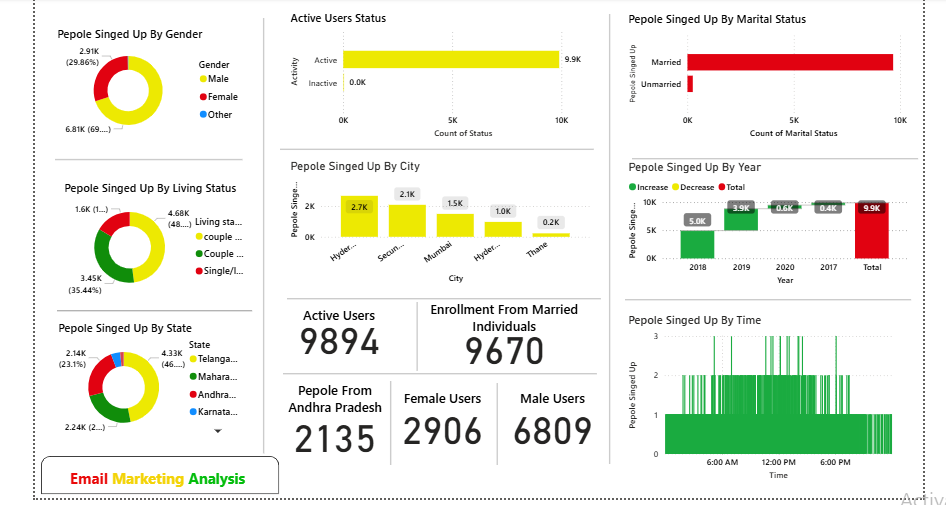

This screenshot's page, from the dashboard's own definition file:
{"tool":"powerbi","page":{"name":"Page 1","canvas":[1280,720],"ordinal":0},"visuals":[{"type":"donutChart","title":"Pepole Singed Up By Gender  ","fields":{"Category":["Email Markteing.Gender"],"Y":["CountNonNull(Email Markteing.Gender)"]},"box":[26.9,40.3,280.5,164.6],"z":0},{"type":"barChart","title":"Active Users Status","fields":{"Category":["Email Markteing.Status"],"Y":["CountNonNull(Email Markteing.Status)"]},"box":[362.8,16.8,441.8,189.8],"z":1000},{"type":"barChart","title":"Pepole Singed Up By Marital Status ","fields":{"Category":["Email Markteing.Marital Status"],"Y":["CountNonNull(Email Markteing.Marital Status)"]},"box":[850,18.5,411.5,188.1],"z":2000},{"type":"donutChart","title":"Pepole Singed Up By Living Status ","fields":{"Category":["Email Markteing.Living status"],"Y":["CountNonNull(Email Markteing.Living status)"]},"box":[37,262,278.8,173],"z":3000},{"type":"donutChart","title":"Pepole Singed Up By State ","fields":{"Category":["Email Markteing.State"],"Y":["CountNonNull(Email Markteing.State)"]},"box":[28.6,463.6,278.8,173],"z":4000},{"type":"columnChart","title":"Pepole Singed Up By City","fields":{"Category":["Email Markteing.City"],"Y":["CountNonNull(Email Markteing.City)"]},"box":[362.8,231.8,441.8,183.1],"z":5000},{"type":"waterfallChart","title":"Pepole Singed Up By Year ","fields":{"Category":["Email Markteing.Year"],"Y":["CountNonNull(Email Markteing.Year)"]},"box":[850,233.5,411.5,184.8],"z":6000},{"type":"columnChart","title":"Pepole Singed Up By Time ","fields":{"Category":["Email Markteing.Time"],"Y":["CountNonNull(Email Markteing.Time)"]},"box":[850,451.9,411.5,246.9],"z":7000},{"type":"shape","box":[307.4,28.6,45.4,626.6],"z":8000},{"type":"shape","box":[804.6,23.5,45.4,648.4],"z":9000},{"type":"card","title":"Active Users ","fields":{"Values":["CountNonNull(Email Markteing.Status)"]},"box":[362.8,443.5,149.5,82.3],"z":10000},{"type":"card","title":"Enrollment From Married Individuals ","fields":{"Values":["CountNonNull(Email Markteing.Marital Status)"]},"box":[562.7,435.1,225.1,107.5],"z":11000},{"type":"shape","box":[31.9,438.4,280.5,25.2],"z":12000},{"type":"shape","box":[352.8,204.9,451.9,26.9],"z":13000},{"type":"shape","box":[850,421.6,411.5,25.2],"z":14000},{"type":"shape","box":[28.6,221.7,270.4,21.8],"z":15000},{"type":"shape","box":[860,218.3,411.5,25.2],"z":16000},{"type":"shape","box":[357.8,529.1,451.9,25.2],"z":17000},{"type":"card","title":"Pepole From Andhra Pradesh","fields":{"Values":["CountNonNull(Email Markteing.State)"]},"box":[351.1,551,161.3,109.2],"z":18000},{"type":"card","title":"Female Users ","fields":{"Values":["CountNonNull(Email Markteing.Gender)"]},"box":[517.4,562.7,139.4,85.7],"z":19000},{"type":"card","title":" Male Users ","fields":{"Values":["CountNonNull(Email Markteing.Gender)"]},"box":[675.3,562.7,139.4,85.7],"z":20000},{"type":"shape","box":[362.8,419.9,451.9,25.2],"z":21000},{"type":"shape","box":[656.8,554.3,18.5,117.6],"z":22000},{"type":"shape","box":[485.5,551,53.8,120.9],"z":23000},{"type":"shape","box":[539.2,438.4,23.5,99.1],"z":24000},{"type":"shape","box":[8.4,660.2,342.7,55.4],"z":25000},{"type":"textbox","box":[26.9,671.9,304,48.7],"z":26000}]}

Visuals, with their boxes on the page's 1280x720 design canvas (x1, y1, x2, y2). These are canvas units, not pixel positions in the 946x505 screenshot, which may show the page scaled, cropped or inside an application window:
"Pepole Singed Up By Gender  " donutChart: Rect(27, 40, 307, 205)
"Active Users Status" barChart: Rect(363, 17, 805, 207)
"Pepole Singed Up By Marital Status " barChart: Rect(850, 18, 1262, 207)
"Pepole Singed Up By Living Status " donutChart: Rect(37, 262, 316, 435)
"Pepole Singed Up By State " donutChart: Rect(29, 464, 307, 637)
"Pepole Singed Up By City" columnChart: Rect(363, 232, 805, 415)
"Pepole Singed Up By Year " waterfallChart: Rect(850, 234, 1262, 418)
"Pepole Singed Up By Time " columnChart: Rect(850, 452, 1262, 699)
shape: Rect(307, 29, 353, 655)
shape: Rect(805, 24, 850, 672)
"Active Users " card: Rect(363, 444, 512, 526)
"Enrollment From Married Individuals " card: Rect(563, 435, 788, 543)
shape: Rect(32, 438, 312, 464)
shape: Rect(353, 205, 805, 232)
shape: Rect(850, 422, 1262, 447)
shape: Rect(29, 222, 299, 244)
shape: Rect(860, 218, 1272, 244)
shape: Rect(358, 529, 810, 554)
"Pepole From Andhra Pradesh" card: Rect(351, 551, 512, 660)
"Female Users " card: Rect(517, 563, 657, 648)
" Male Users " card: Rect(675, 563, 815, 648)
shape: Rect(363, 420, 815, 445)
shape: Rect(657, 554, 675, 672)
shape: Rect(486, 551, 539, 672)
shape: Rect(539, 438, 563, 538)
shape: Rect(8, 660, 351, 716)
textbox: Rect(27, 672, 331, 721)
